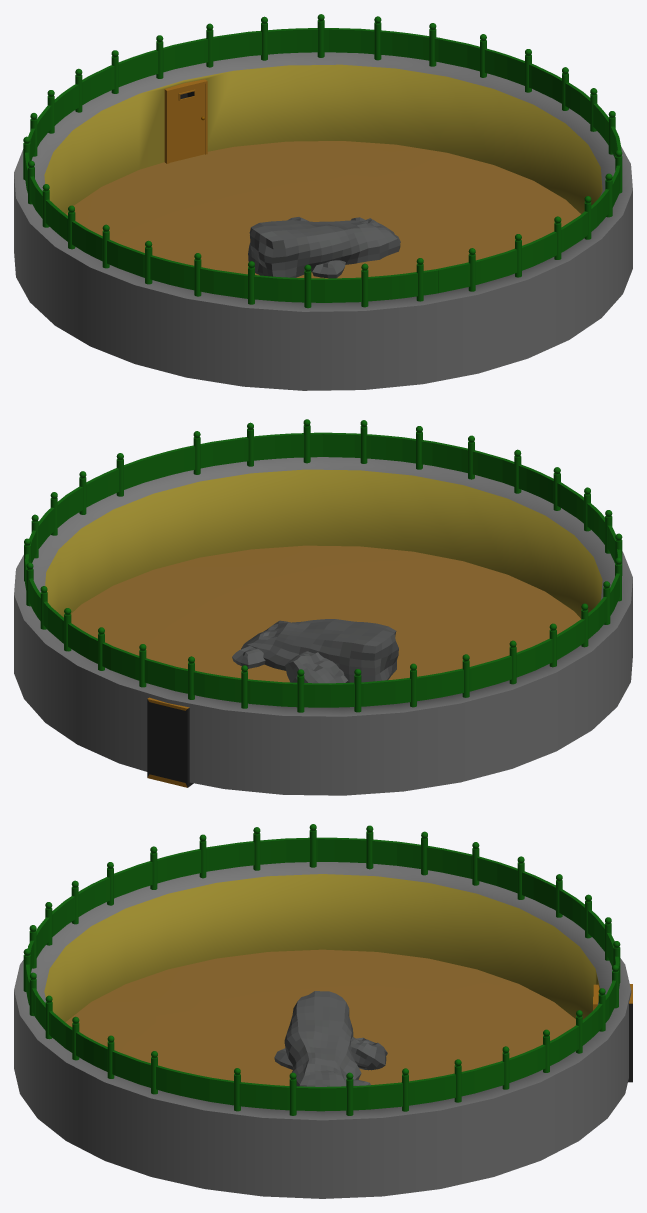
File: Zoo_Only_Habitats.fbx
The picture shows the model from 3 angles, top to bottom: view 1: azimuth 30°, elevation 25°; view 2: azimuth 150°, elevation 25°; view 3: azimuth 270°, elevation 25°; orthographic projection.
Parts seen in each view (by area): view 1: Cube.001; view 2: Cube.001; view 3: Cube.001.
Boxes of the visible parts, x1,y1,x2,y2 form: Cube.001: (14,14,632,390); Cube.001: (14,419,632,795); Cube.001: (14,824,632,1198).
Size of the model in its own units: 2973 by 711 by 2982.
